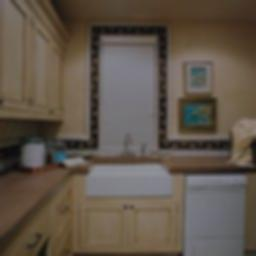Electrodomestico: (183, 174, 244, 253)
Lavaplatos: (86, 136, 171, 194)
